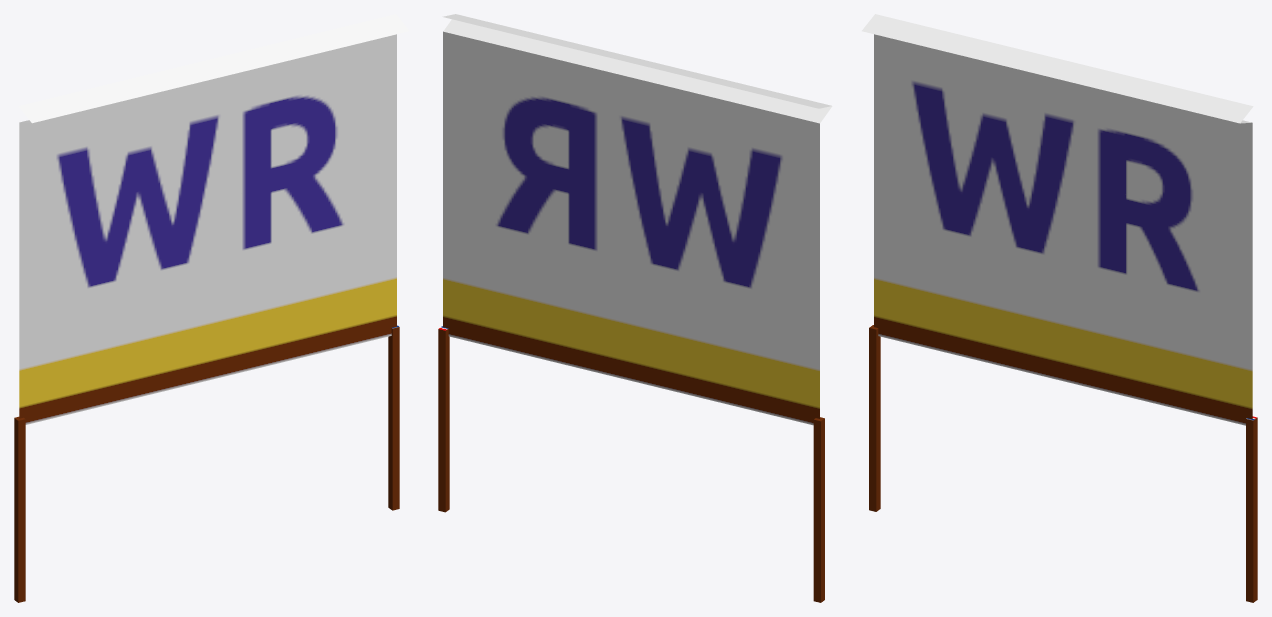
File: World_Record_Table.FBX
3 renders of one model, left to right at view 1: azimuth 30°, elevation 25°; view 2: azimuth 150°, elevation 25°; view 3: azimuth 330°, elevation 25°, orthographic.
Visible parts, largest first — view 1: World_Record_Table; view 2: World_Record_Table; view 3: World_Record_Table.
Boxes of the visible parts, left/top/right/bottom form: World_Record_Table: left=14, top=14, right=409, bottom=602; World_Record_Table: left=438, top=14, right=832, bottom=602; World_Record_Table: left=862, top=14, right=1257, bottom=602.
Bounding box in the file's own units: 4.79 × 5.92 × 0.3437.
